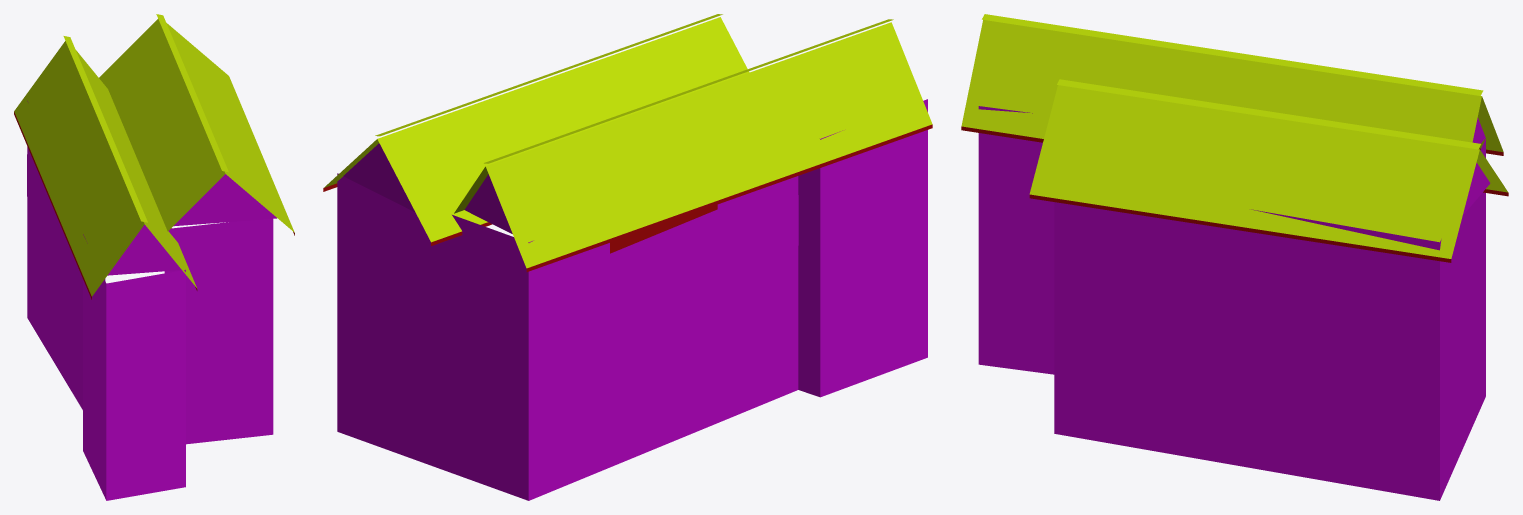
The model's file is ces_25.glb.
The picture shows the model from 3 angles, left to right: view 1: azimuth 30°, elevation 25°; view 2: azimuth 150°, elevation 25°; view 3: azimuth 270°, elevation 25°; orthographic projection. The views are drawn at different scales.
Visible parts, largest first — view 1: ces_25; view 2: ces_25; view 3: ces_25.
Part boxes in pixels (bbox=[...]): ces_25: bbox=[14, 14, 294, 500]; ces_25: bbox=[323, 14, 932, 500]; ces_25: bbox=[961, 14, 1508, 500].
Bounding box in the file's own units: 12.71 × 10.25 × 15.58.
